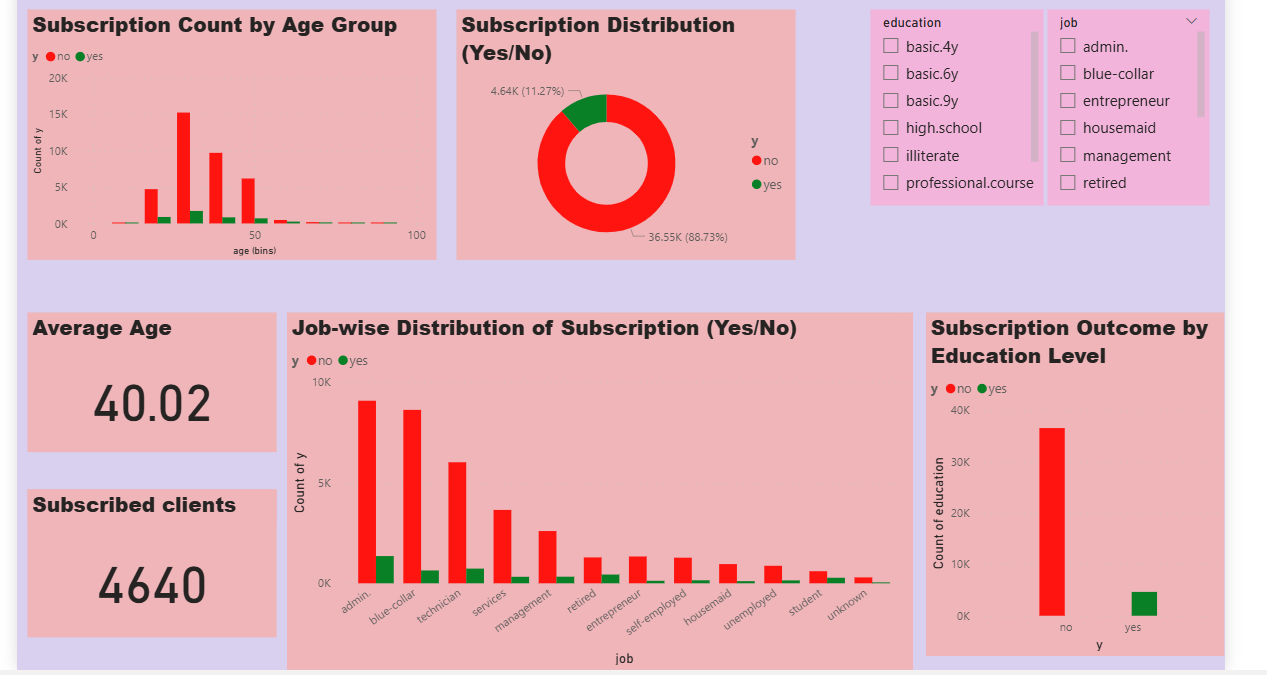

Layout of this report page (visuals, bound fields, positions):
{"tool":"powerbi","page":{"name":"Page 1","canvas":[1280,720],"ordinal":0},"visuals":[{"type":"card","title":"Average Age","fields":{"Values":["Avg(bank.age)"]},"box":[11.1,341.7,263.8,147.8],"z":0},{"type":"card","title":"Subscribed clients","fields":{"Values":["CountNonNull(bank.y)"]},"box":[11.3,529.1,263.7,156.9],"z":1},{"type":"clusteredColumnChart","title":"Job-wise Distribution of Subscription (Yes/No)","fields":{"Series":["bank.y"],"Y":["CountNonNull(bank.y)"],"Category":["bank.job"]},"box":[286.4,341.4,663.4,378.6],"z":2},{"type":"clusteredColumnChart","title":"Subscription Outcome by Education Level","fields":{"Y":["CountNonNull(bank.education)"],"Category":["bank.y"],"Series":["bank.y"]},"box":[963.2,341.7,316.3,364],"z":3},{"type":"clusteredColumnChart","title":"Subscription Count by Age Group","fields":{"Category":["bank.age (bins)"],"Y":["CountNonNull(bank.y)"],"Series":["bank.y"]},"box":[11.3,21,433.6,265.3],"z":4},{"type":"donutChart","title":"Subscription Distribution (Yes/No)","fields":{"Y":["CountNonNull(bank.y)"],"Category":["bank.y"]},"box":[465.7,20.7,359.2,265.4],"z":5},{"type":"slicer","fields":{"Values":["bank.job"]},"box":[1091.9,20.7,171.7,206.6],"z":6},{"type":"slicer","fields":{"Values":["bank.education"]},"box":[904.4,21,182.8,207.1],"z":7}]}

Visuals, with their boxes on the page's 1280x720 design canvas (x1, y1, x2, y2). These are canvas units, not pixel positions in the 1267x675 screenshot, which may show the page scaled, cropped or inside an application window:
"Average Age" card: bbox(11, 342, 275, 490)
"Subscribed clients" card: bbox(11, 529, 275, 686)
"Job-wise Distribution of Subscription (Yes/No)" clusteredColumnChart: bbox(286, 341, 950, 720)
"Subscription Outcome by Education Level" clusteredColumnChart: bbox(963, 342, 1280, 706)
"Subscription Count by Age Group" clusteredColumnChart: bbox(11, 21, 445, 286)
"Subscription Distribution (Yes/No)" donutChart: bbox(466, 21, 825, 286)
slicer - bank.job: bbox(1092, 21, 1264, 227)
slicer - bank.education: bbox(904, 21, 1087, 228)
